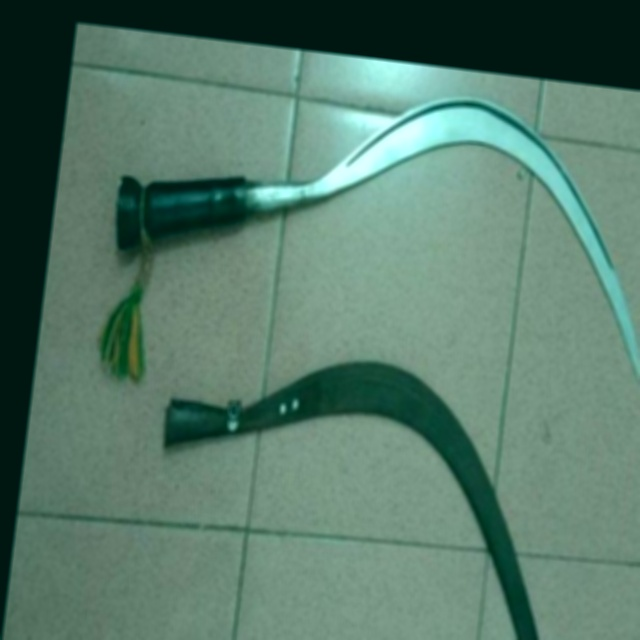Sharp-Object: (42, 32, 640, 386), (121, 328, 620, 640)
